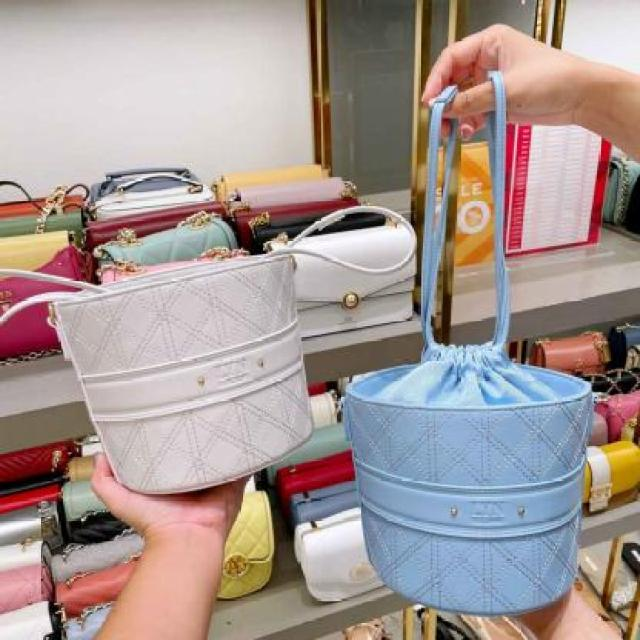Bag: (336, 57, 602, 640), (48, 235, 330, 498), (266, 191, 440, 346)
